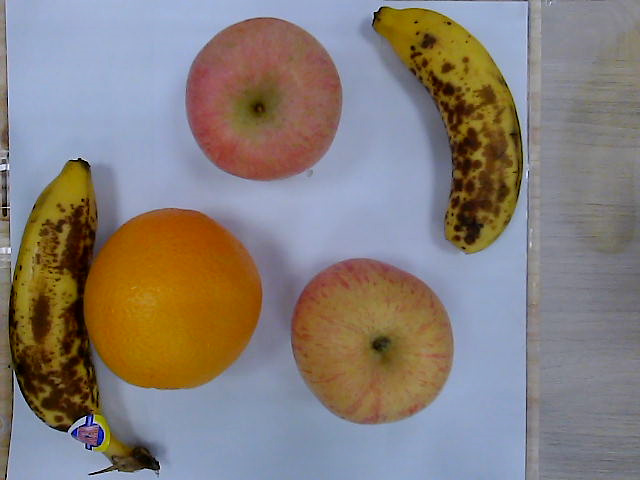fresh_apple: (292, 260, 454, 426), (185, 17, 341, 181)
fresh_orange: (84, 208, 263, 391)
rotten_banana: (9, 160, 160, 471), (370, 5, 524, 257)
